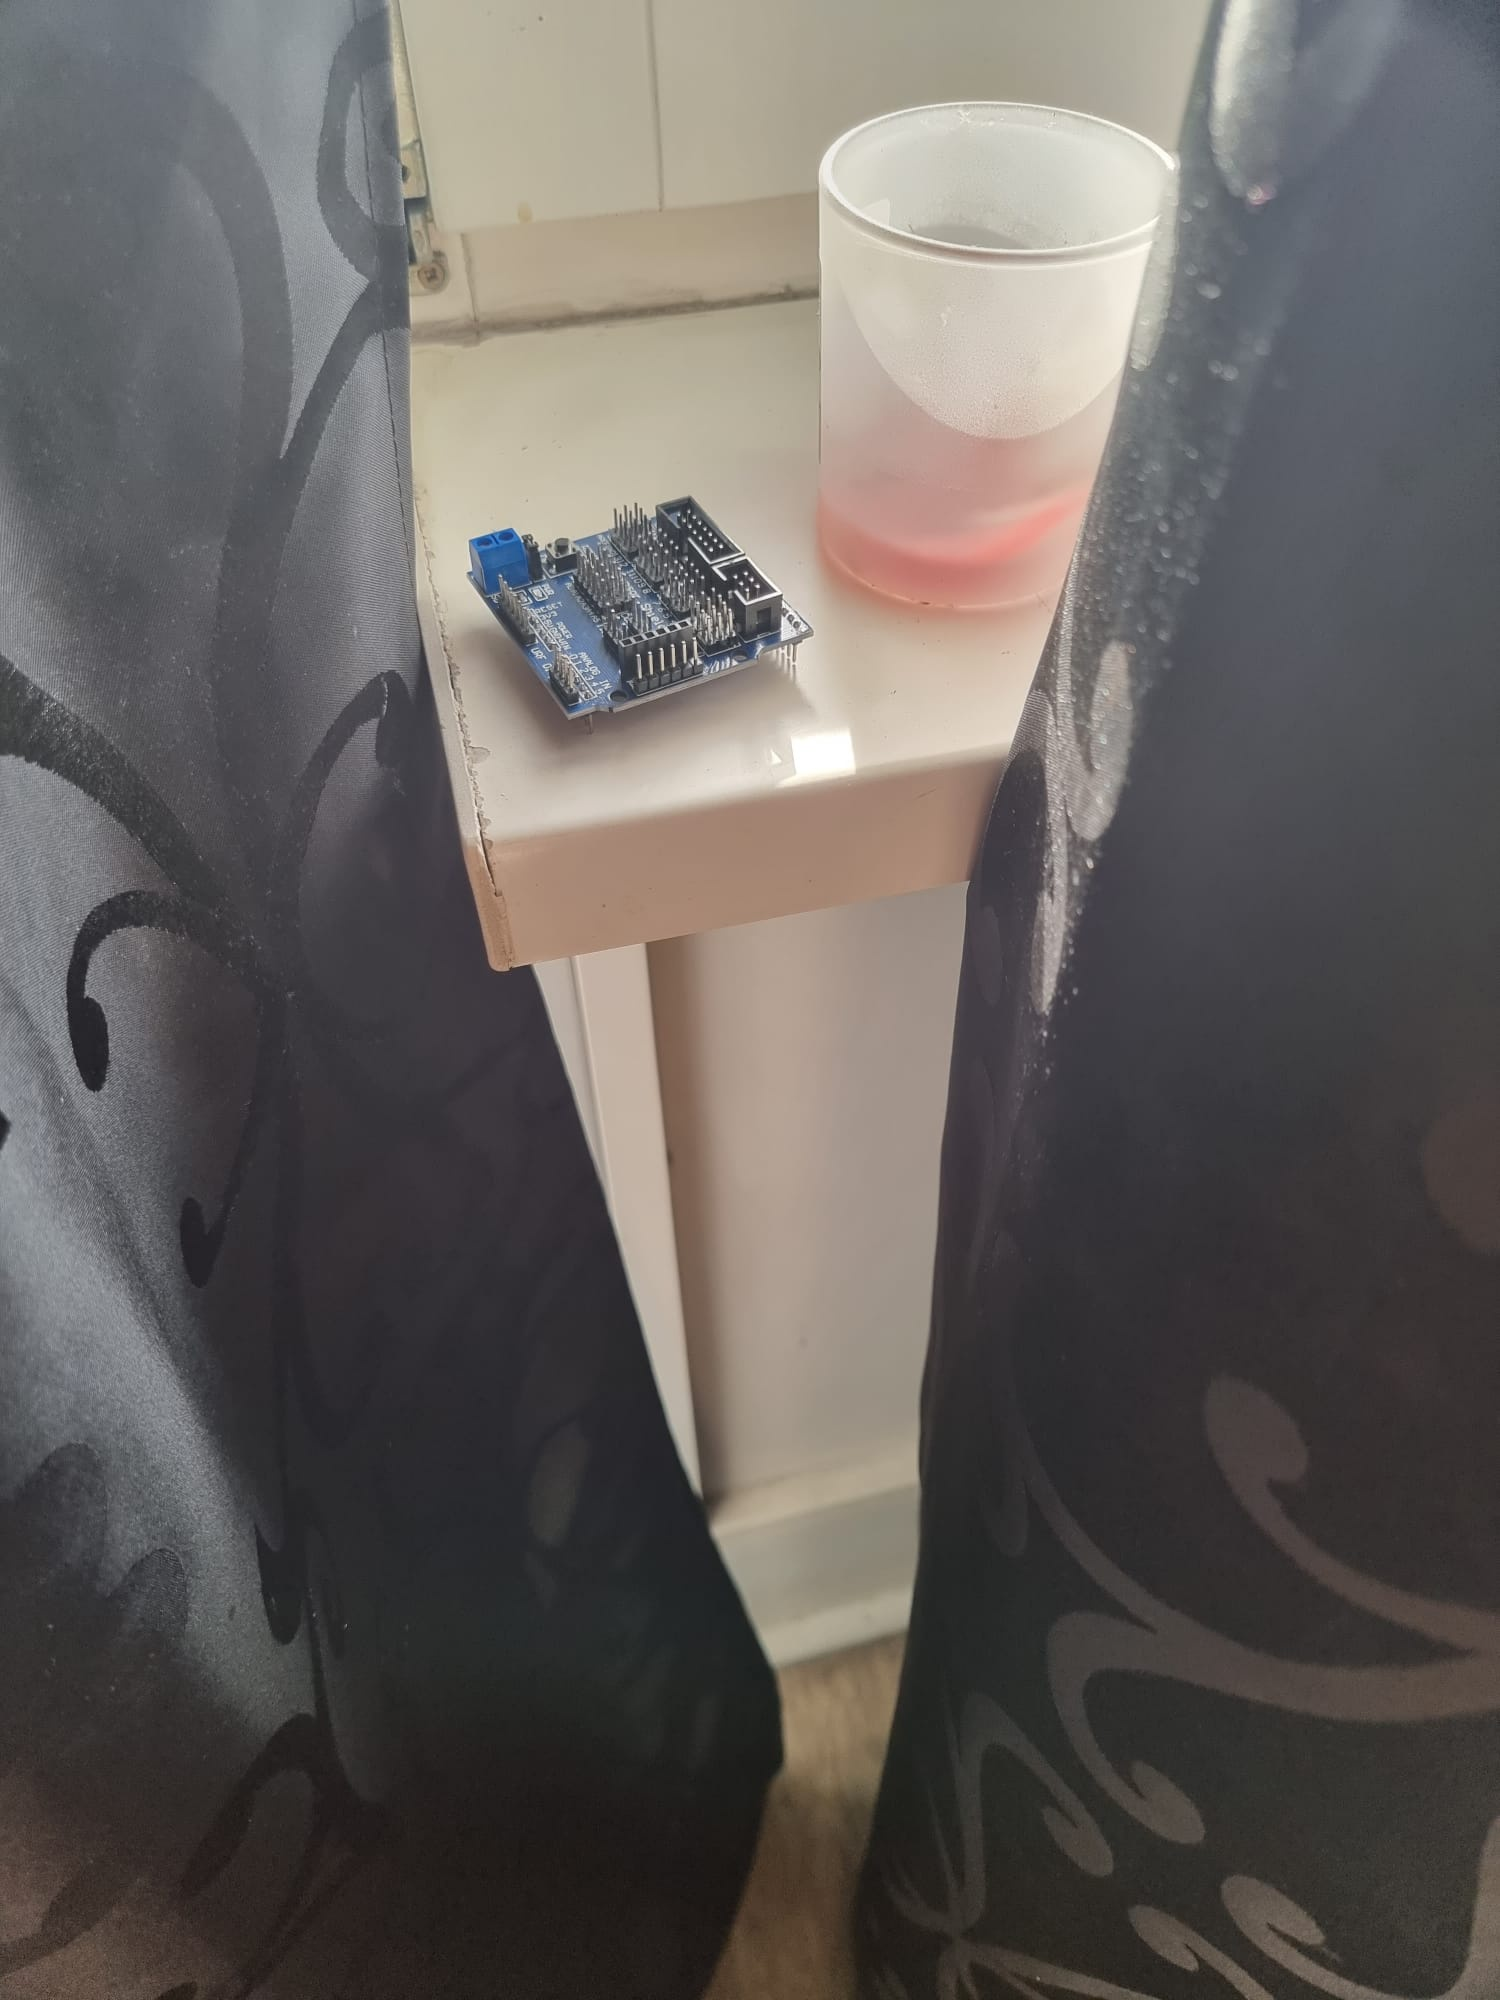5V EXPANSION: (455, 498, 816, 735)
